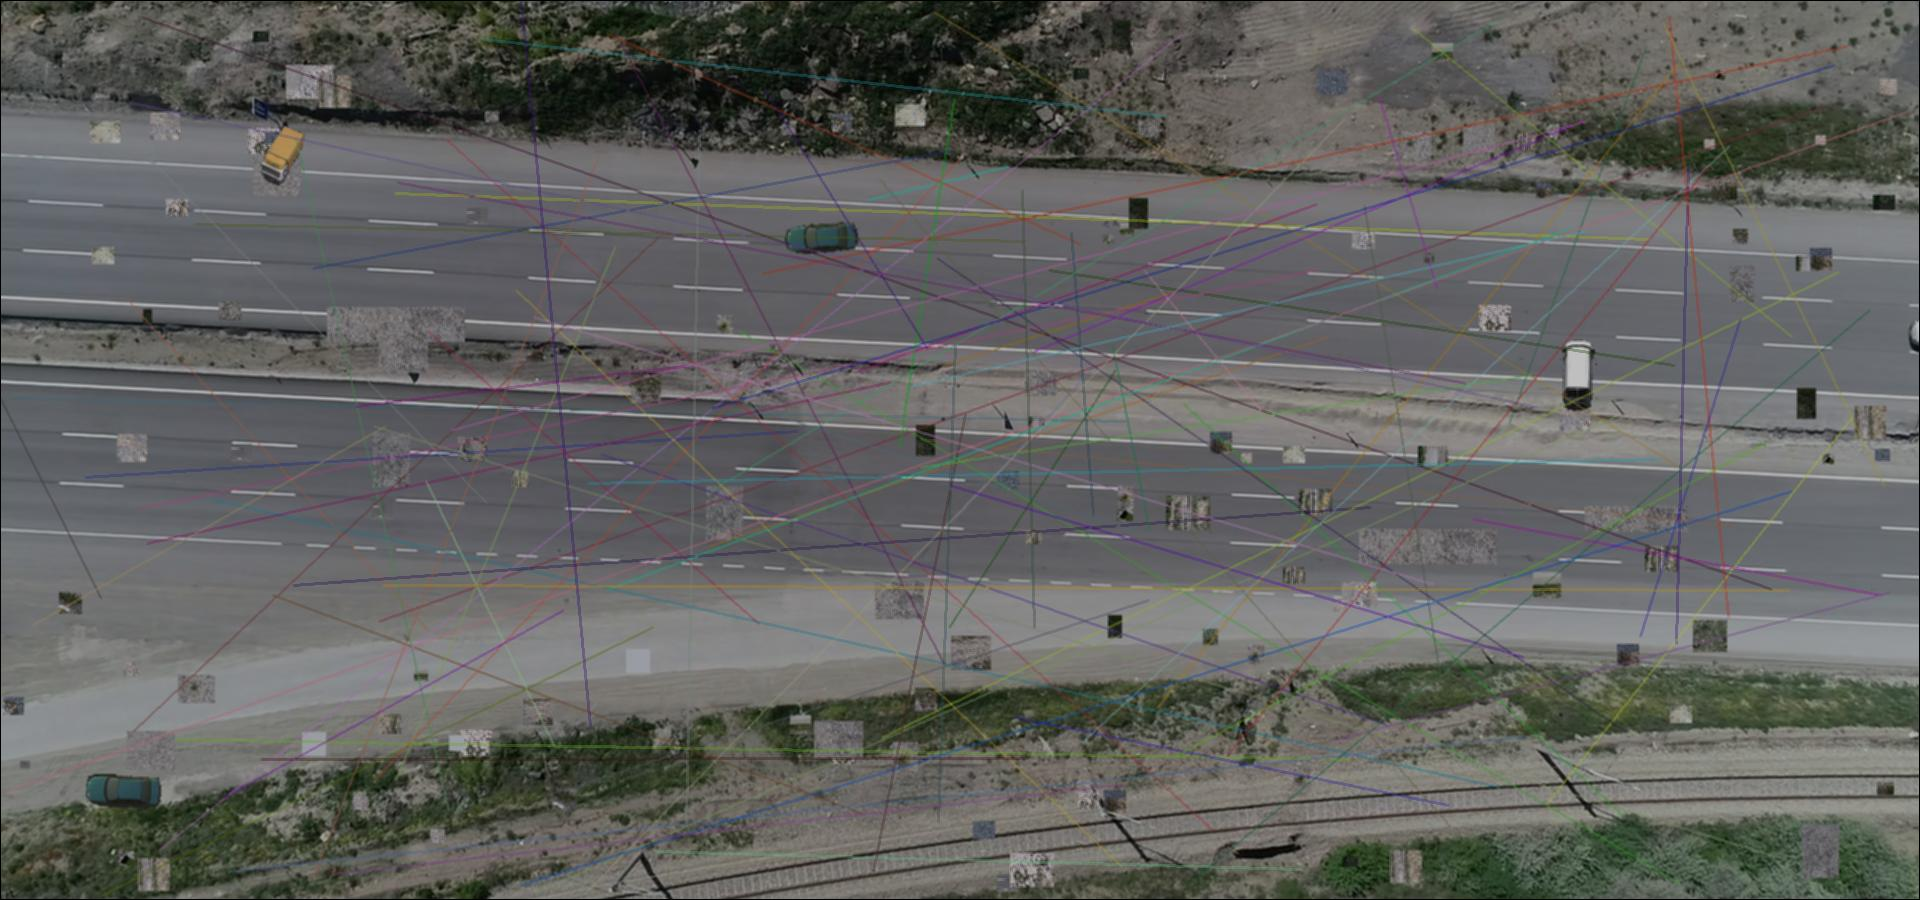arac: (260, 125, 306, 186), (86, 774, 165, 808), (1560, 339, 1597, 411), (784, 222, 858, 253)
